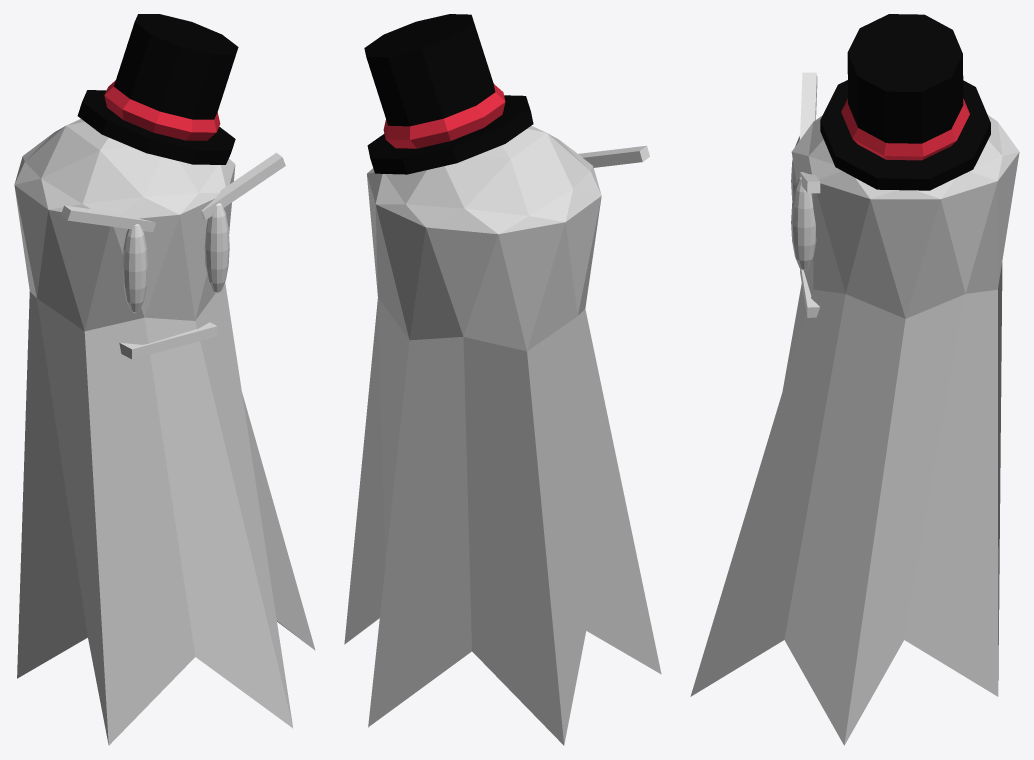
Rendered from FantasmaBoss.fbx.
The picture shows the model from 3 angles, left to right: view 1: azimuth 30°, elevation 25°; view 2: azimuth 150°, elevation 25°; view 3: azimuth 270°, elevation 25°; orthographic projection. The views are drawn at different scales.
Parts seen in each view (by area): view 1: FantasmaBoss; view 2: FantasmaBoss; view 3: FantasmaBoss.
Boxes of the visible parts, left/top/right/bottom form: FantasmaBoss: left=14, top=14, right=315, bottom=745; FantasmaBoss: left=344, top=14, right=661, bottom=745; FantasmaBoss: left=690, top=14, right=1019, bottom=745.
Size of the model in its own units: 579 by 1313 by 594.
